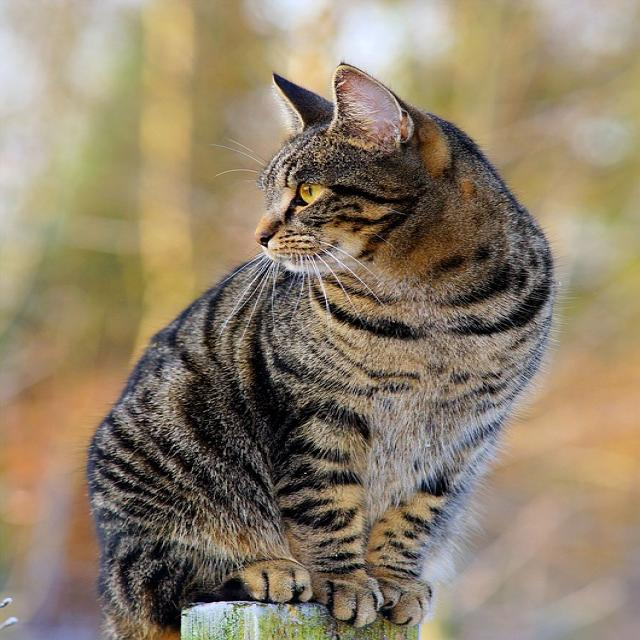cat: (61, 53, 564, 640)
